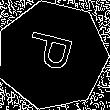P_E: (23, 31, 82, 79)
